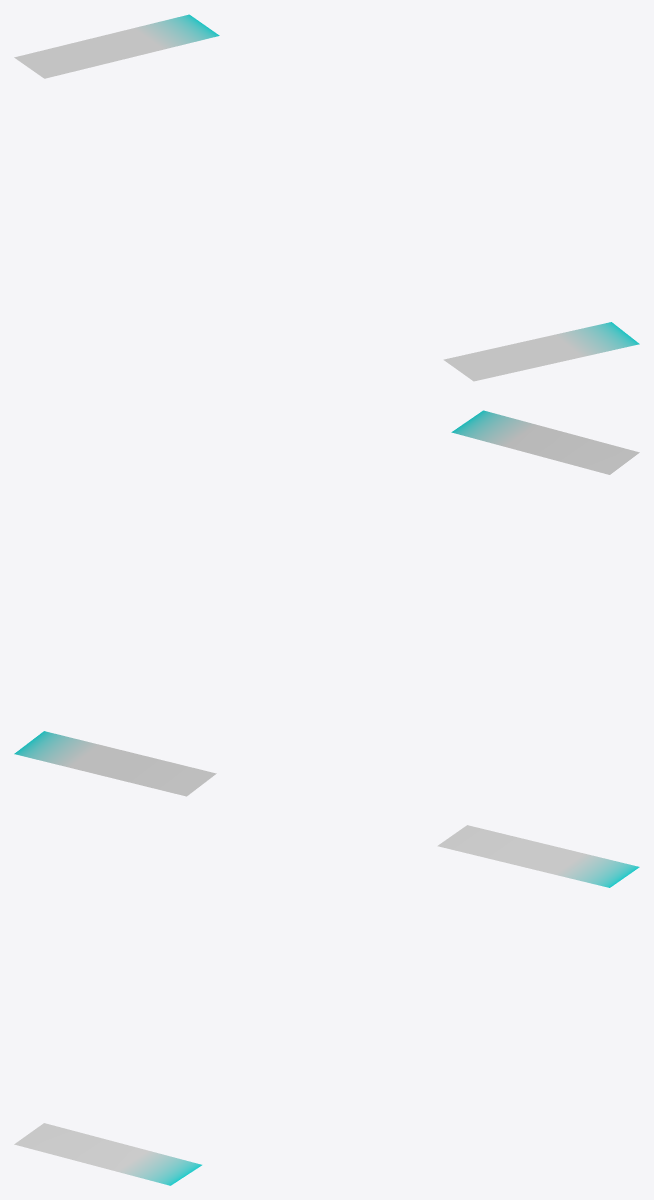
3 views of the same model, one above another, from view 1: azimuth 30°, elevation 25°; view 2: azimuth 150°, elevation 25°; view 3: azimuth 330°, elevation 25° (orthographic).
Visible parts, largest first — view 1: SpaceCenter_Long3_GenerateRoad_Asphalt_PCGMesh_Decal_Mesh_x9; view 2: SpaceCenter_Long3_GenerateRoad_Asphalt_PCGMesh_Decal_Mesh_x9; view 3: SpaceCenter_Long3_GenerateRoad_Asphalt_PCGMesh_Decal_Mesh_x9.
Boxes of the visible parts, box(x1,y1,x2,y2) form: SpaceCenter_Long3_GenerateRoad_Asphalt_PCGMesh_Decal_Mesh_x9: box(14, 14, 639, 381); SpaceCenter_Long3_GenerateRoad_Asphalt_PCGMesh_Decal_Mesh_x9: box(14, 410, 639, 796); SpaceCenter_Long3_GenerateRoad_Asphalt_PCGMesh_Decal_Mesh_x9: box(14, 825, 639, 1185).
Size of the model in its own units: 546 by 119 by 8.38.
